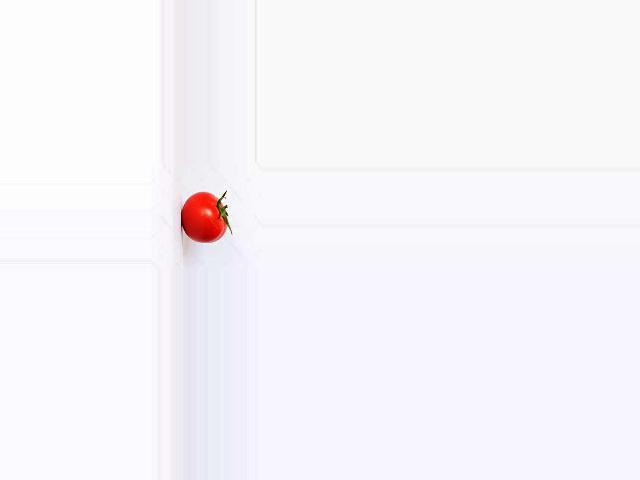tomato: (181, 192, 226, 244)
